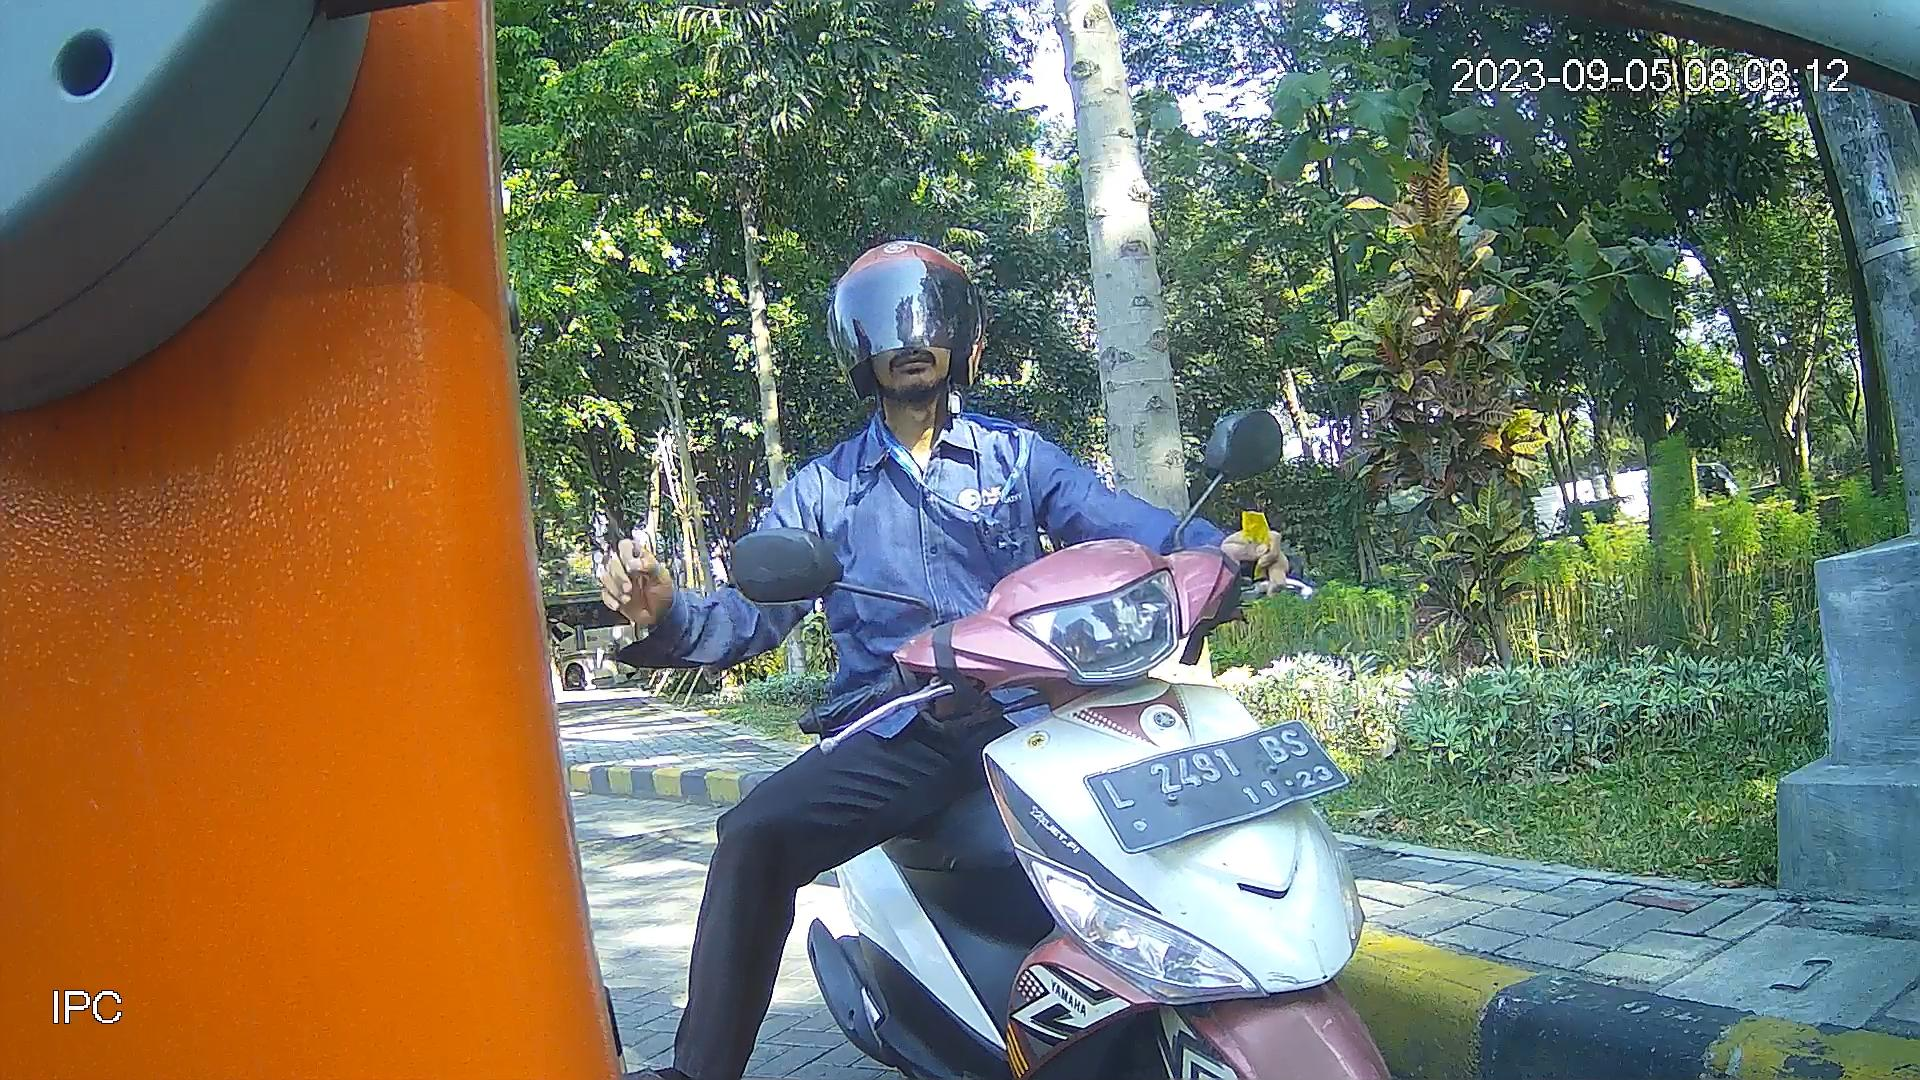plat: (1080, 715, 1356, 858)
